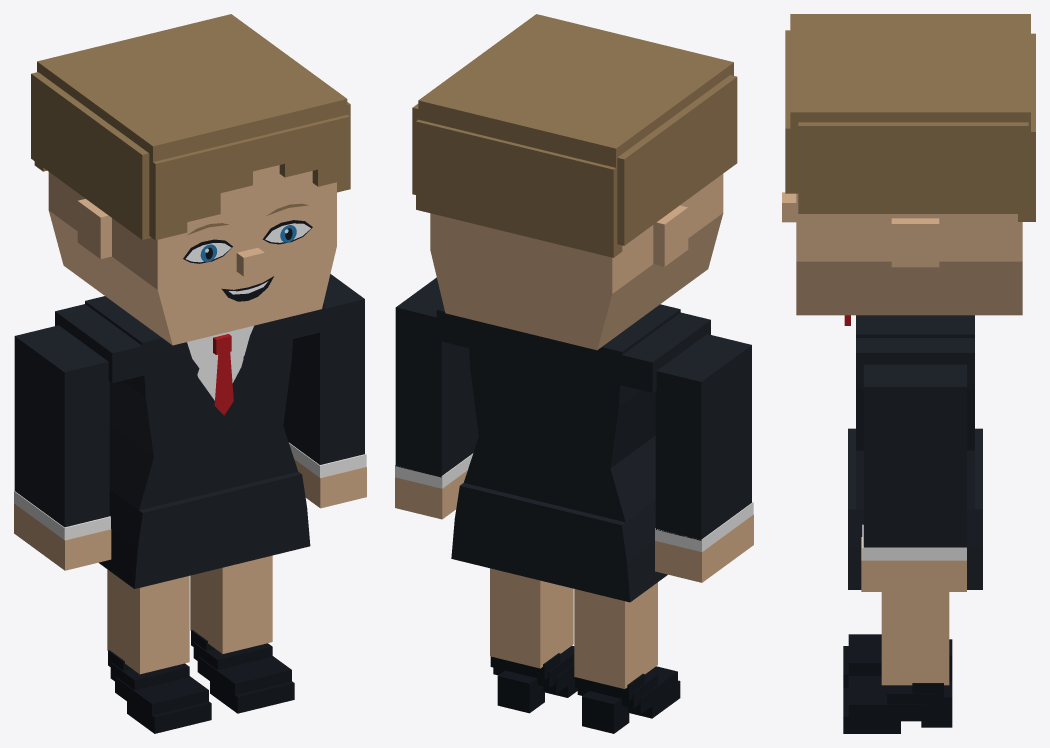
The model's file is female_short.glb.
3 renders of one model, left to right at view 1: azimuth 30°, elevation 25°; view 2: azimuth 150°, elevation 25°; view 3: azimuth 270°, elevation 25°, orthographic. The views are drawn at different scales.
Parts seen in each view (by area): view 1: char_hair_visual, char_torso_visual, char_head_visual, char_arm_negx_visual, char_arm_posx_visual, char_leg_negx_visual, char_leg_posx_visual, char_hand_negx_visual, char_hand_posx_visual, char_eye_negx_visual, char_eye_posx_visual; view 2: char_hair_visual, char_torso_visual, char_head_visual, char_arm_negx_visual, char_arm_posx_visual, char_leg_negx_visual, char_leg_posx_visual, char_hand_negx_visual, char_hand_posx_visual; view 3: char_hair_visual, char_head_visual, char_arm_posx_visual, char_torso_visual, char_leg_posx_visual, char_hand_posx_visual, char_leg_negx_visual.
Part boxes in pixels (x1=…): char_hair_visual: x1=31, y1=14, x2=350, y2=240; char_torso_visual: x1=55, y1=296, x2=324, y2=588; char_head_visual: x1=48, y1=165, x2=336, y2=345; char_arm_negx_visual: x1=14, y1=325, x2=110, y2=540; char_arm_posx_visual: x1=283, y1=274, x2=366, y2=477; char_leg_negx_visual: x1=107, y1=569, x2=211, y2=733; char_leg_posx_visual: x1=190, y1=555, x2=294, y2=713; char_hand_negx_visual: x1=14, y1=503, x2=111, y2=570; char_hand_posx_visual: x1=294, y1=459, x2=366, y2=508; char_eye_negx_visual: x1=183, y1=239, x2=232, y2=263; char_eye_posx_visual: x1=262, y1=220, x2=312, y2=244; char_hair_visual: x1=412, y1=14, x2=737, y2=257; char_torso_visual: x1=436, y1=304, x2=710, y2=602; char_head_visual: x1=430, y1=174, x2=723, y2=350; char_arm_negx_visual: x1=655, y1=334, x2=753, y2=551; char_arm_posx_visual: x1=395, y1=277, x2=478, y2=488; char_leg_negx_visual: x1=574, y1=582, x2=680, y2=733; char_leg_posx_visual: x1=490, y1=568, x2=577, y2=713; char_hand_negx_visual: x1=655, y1=514, x2=753, y2=582; char_hand_posx_visual: x1=395, y1=470, x2=467, y2=519; char_hair_visual: x1=785, y1=14, x2=1035, y2=221; char_head_visual: x1=782, y1=192, x2=1022, y2=315; char_arm_posx_visual: x1=862, y1=364, x2=966, y2=560; char_torso_visual: x1=844, y1=315, x2=982, y2=589; char_leg_posx_visual: x1=843, y1=592, x2=952, y2=733; char_hand_posx_visual: x1=861, y1=537, x2=966, y2=591; char_leg_negx_visual: x1=843, y1=634, x2=952, y2=687.
Size of the model in its own units: 0.91 by 1.77 by 0.6395.
